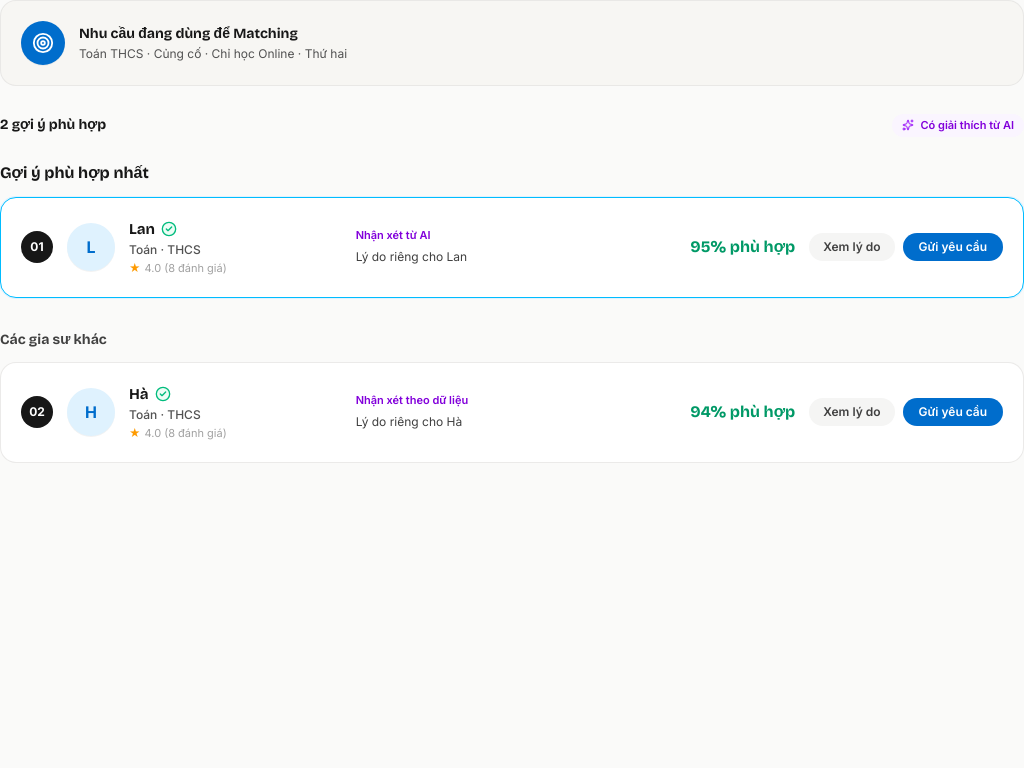
Scenario: Personalized matching › shows four weighted criteria and the combined subject/level fit
The width and height of the screenshot is (1024, 768).
Click the button "Xem lý do" in the row of "95": (852, 247) [809,233,894,261]
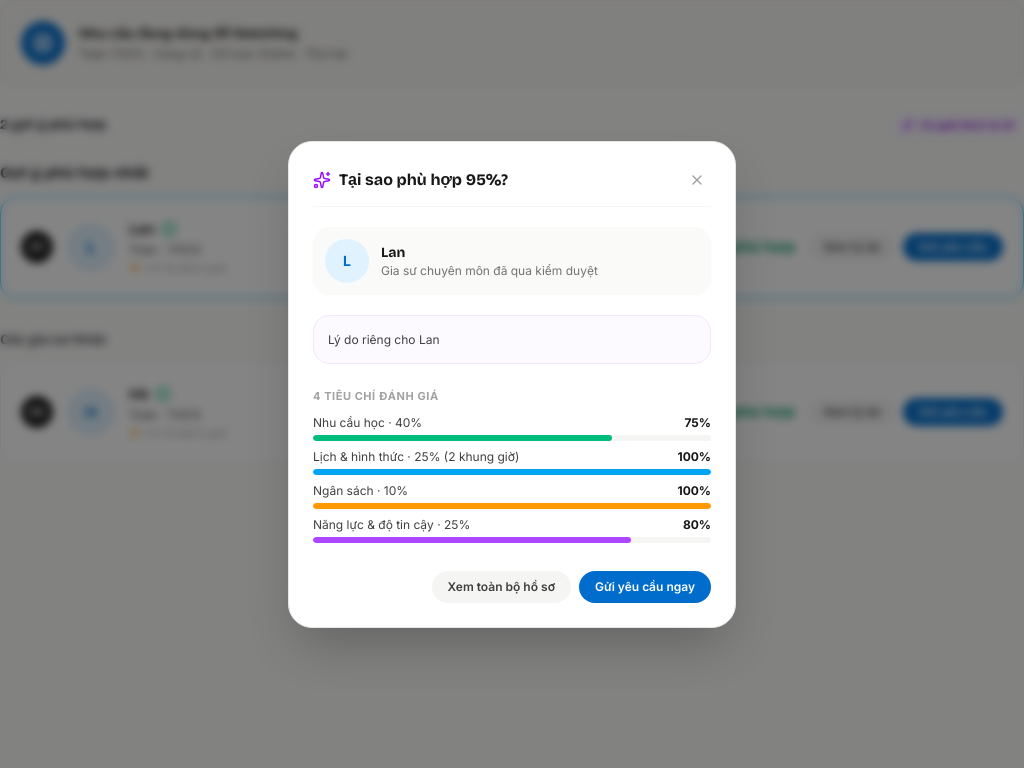
Now the text "Nhu cầu học · 40%" is shown, box [313,414,422,430]
Now the text "Năng lực & độ tin cậy · 25%" is shown, box [313,516,470,532]
Now the text "Lịch & hình thức · 25% (2 khung giờ)" is shown, box [313,448,519,464]
